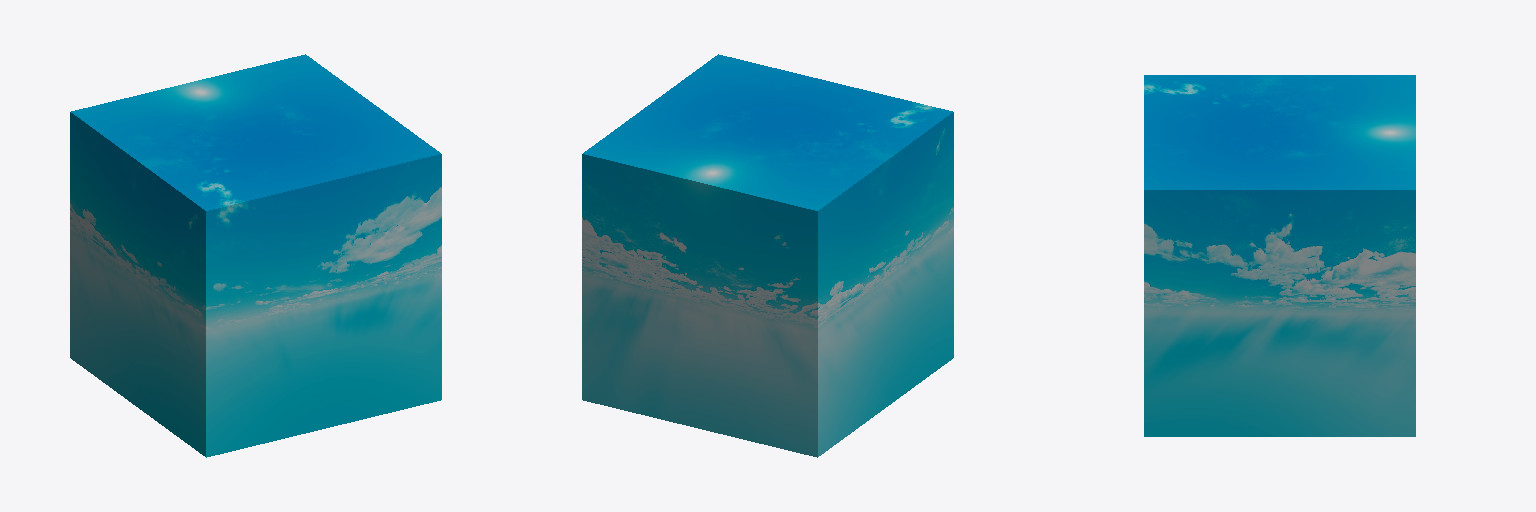
3 views of the same model, side by side, from view 1: azimuth 30°, elevation 25°; view 2: azimuth 150°, elevation 25°; view 3: azimuth 270°, elevation 25° (orthographic).
Visible parts, largest first — view 1: NegativeY_Plane.003, negativeX_Plane.006, positiveZ_Plane.005; view 2: positiveY_Plane.004, negativeX_Plane.006, positiveZ_Plane.005; view 3: positiveX_Plane.001, positiveZ_Plane.005.
Boxes of the visible parts, <box> form: NegativeY_Plane.003: <box>206,154,441,457</box>; negativeX_Plane.006: <box>70,112,205,456</box>; positiveZ_Plane.005: <box>71,54,440,210</box>; positiveY_Plane.004: <box>582,154,817,457</box>; negativeX_Plane.006: <box>818,112,953,456</box>; positiveZ_Plane.005: <box>583,54,952,210</box>; positiveX_Plane.001: <box>1144,190,1415,436</box>; positiveZ_Plane.005: <box>1144,75,1415,189</box>.
Size of the model in its own units: 30 by 30 by 30.
6 materials, 6 textured.